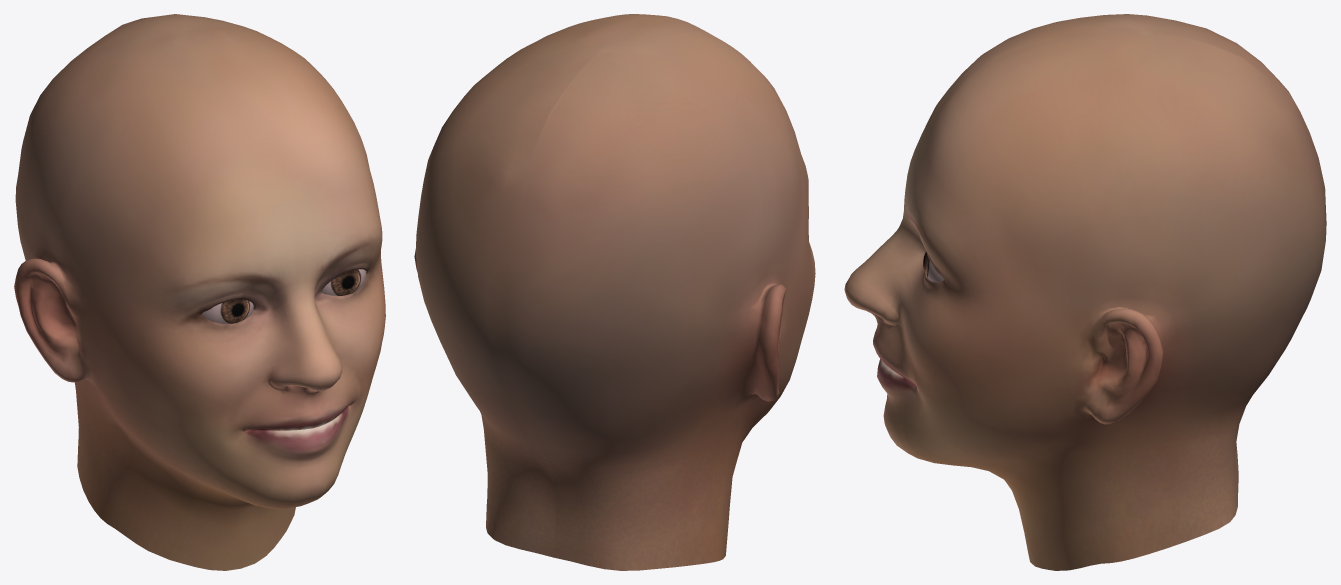
Rendered from HeadObject.fbx.
3 renders of one model, left to right at view 1: azimuth 30°, elevation 25°; view 2: azimuth 150°, elevation 25°; view 3: azimuth 270°, elevation 25°, orthographic. The views are drawn at different scales.
Parts seen in each view (by area): view 1: Head; view 2: Head; view 3: Head.
Boxes of the visible parts, x1,y1,x2,y2 form: Head: [14, 14, 385, 570]; Head: [414, 14, 815, 570]; Head: [844, 14, 1326, 570].
Bounding box in the file's own units: 0.1736 × 0.2487 × 0.2064.
1 material, 1 textured.
